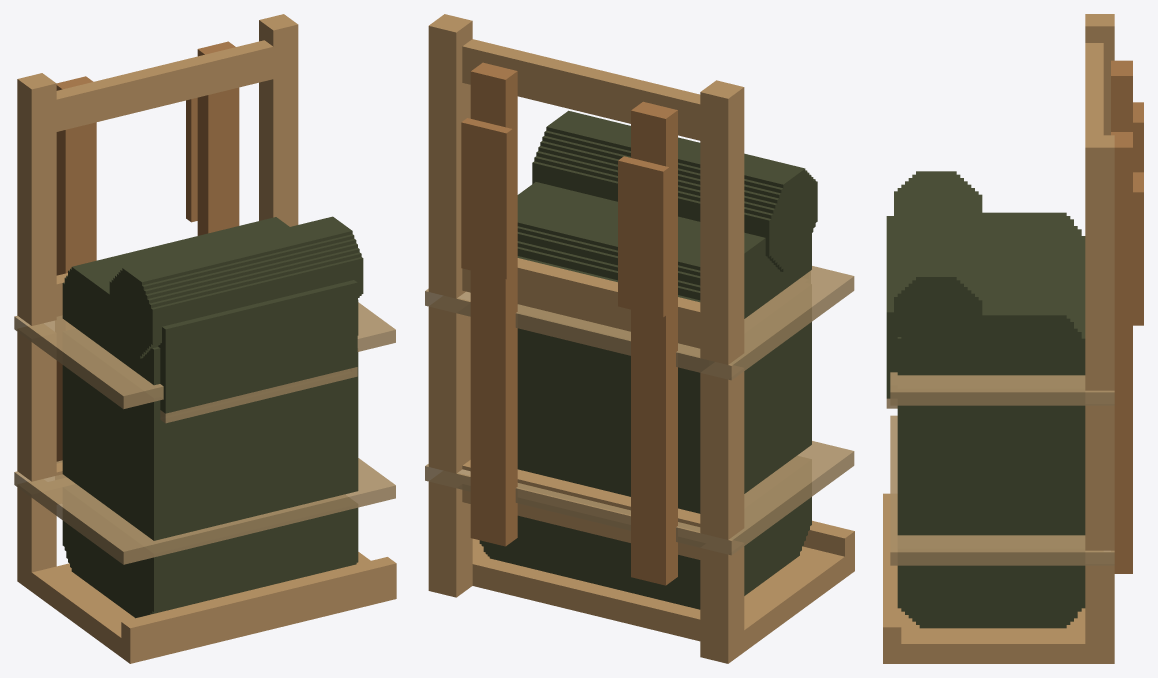
File: trapper_pack.glb
3 views of the same model, side by side, from view 1: azimuth 30°, elevation 25°; view 2: azimuth 150°, elevation 25°; view 3: azimuth 270°, elevation 25° (orthographic). The views are drawn at different scales.
Parts seen in each view (by area): view 1: trapper_pack:compound; view 2: trapper_pack:compound; view 3: trapper_pack:compound.
Boxes of the visible parts, box(x1,y1,x2,y2) form: trapper_pack:compound: box(14, 14, 396, 663); trapper_pack:compound: box(425, 14, 854, 663); trapper_pack:compound: box(883, 14, 1143, 663).
Size of the model in its own units: 0.352 by 0.62 by 0.284.
